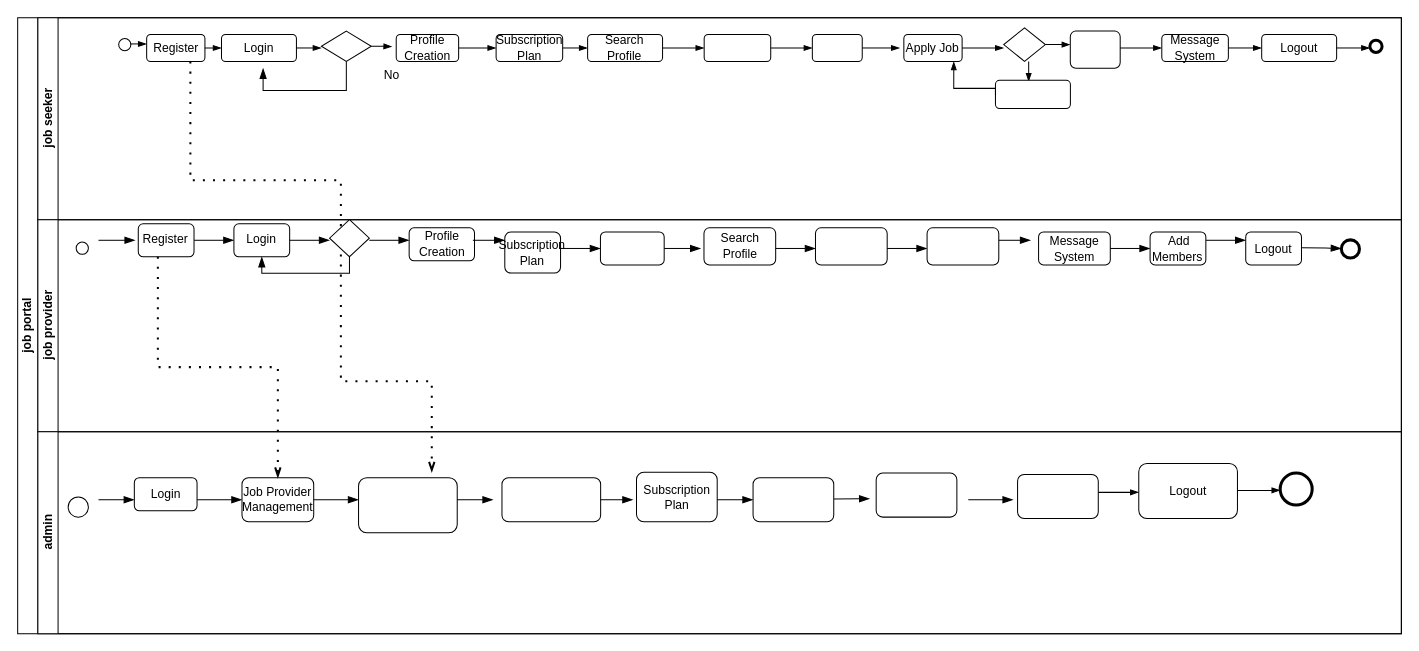
The diagram is 1419 pixels wide and 651 high, and some of its shapes have lost their labels. The centre of each missing label's shape, as x and y in pixels:
"categories" belongs at point 916,494.
"Follow Profiles" belongs at point 737,48.
"Job Posting" belongs at point 631,248.
"Jobseeker Mangement" belongs at point 407,505.
"Monitizing Jobpost" belongs at point 551,499.
"Notification Plan" belongs at point 793,499.
"Save Jobs" belongs at point 1032,94.
"Search Jobs" belongs at point 836,48.
"skill assessment" belongs at point 1057,496.
"Sorting" belongs at point 962,246.
"View Application" belongs at point 850,246.
"View Interview Schedule" belongs at point 1094,49.
